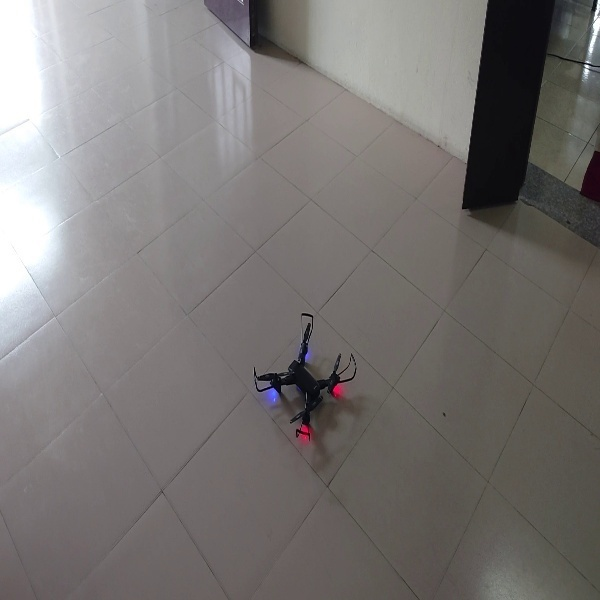drone: (249, 307, 359, 443)
